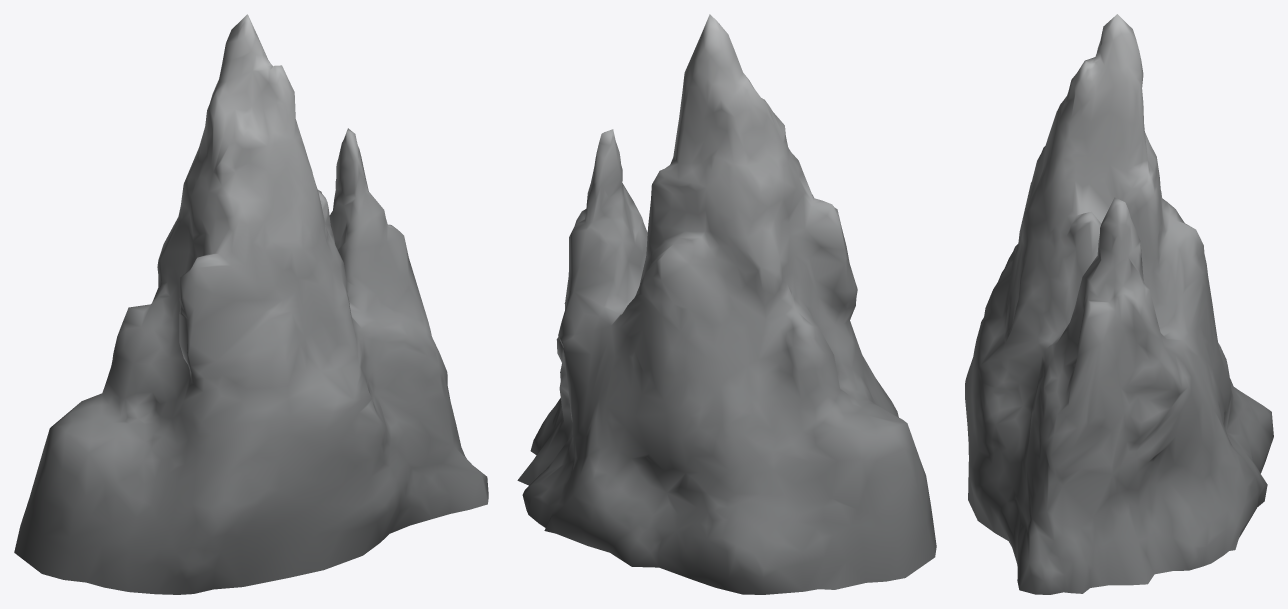
Rendered from mountain_001.glb.
3 views of the same model, side by side, from view 1: azimuth 30°, elevation 25°; view 2: azimuth 150°, elevation 25°; view 3: azimuth 270°, elevation 25° (orthographic). The views are drawn at different scales.
Visible parts, largest first — view 1: mountain_001; view 2: mountain_001; view 3: mountain_001.
Boxes of the visible parts, left/top/right/bottom form: mountain_001: left=14, top=14, right=488, bottom=594; mountain_001: left=517, top=14, right=936, bottom=594; mountain_001: left=965, top=14, right=1273, bottom=594.
Bounding box in the file's own units: 30.61 × 34.97 × 20.14.
Materials: 1 (1 with a texture image).
